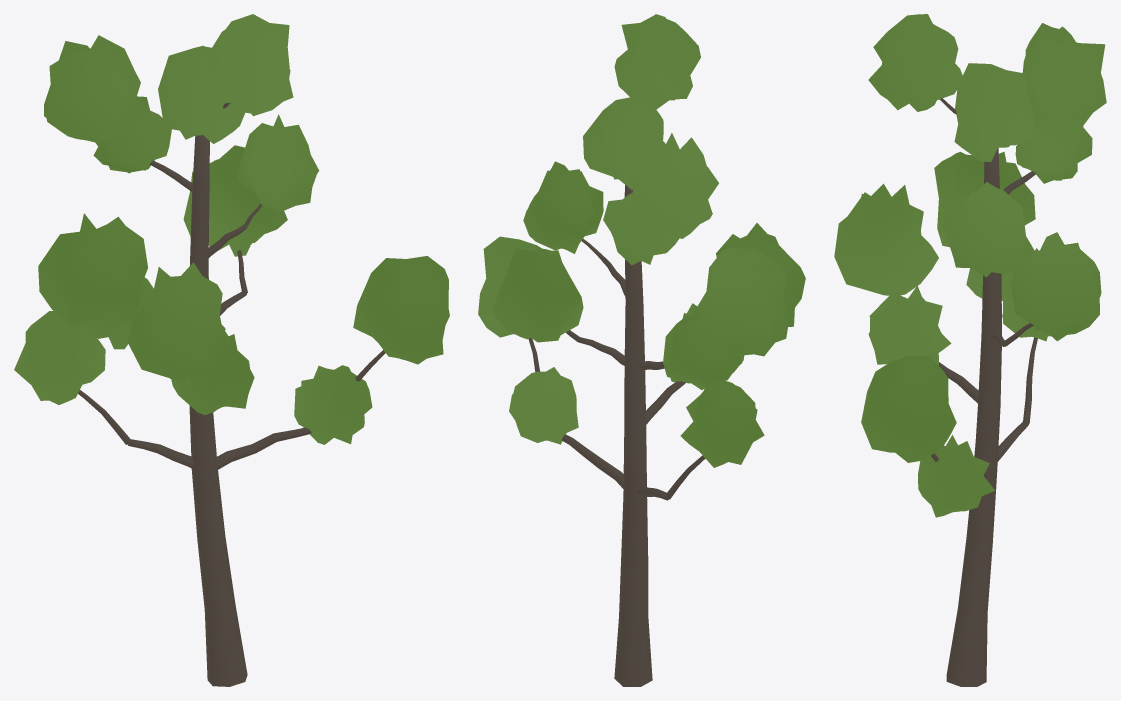
File: Blender_TurkeyOak_1.glb
3 renders of one model, left to right at view 1: azimuth 30°, elevation 25°; view 2: azimuth 150°, elevation 25°; view 3: azimuth 270°, elevation 25°, orthographic. The views are drawn at different scales.
Parts seen in each view (by area): view 1: Blender_TurkeyOak_1; view 2: Blender_TurkeyOak_1; view 3: Blender_TurkeyOak_1.
Boxes of the visible parts, x1=… form: Blender_TurkeyOak_1: x1=14, y1=14, x2=449, y2=686; Blender_TurkeyOak_1: x1=478, y1=14, x2=805, y2=686; Blender_TurkeyOak_1: x1=834, y1=14, x2=1106, y2=686.
Bounding box in the file's own units: 4.89 × 9.01 × 3.33.
